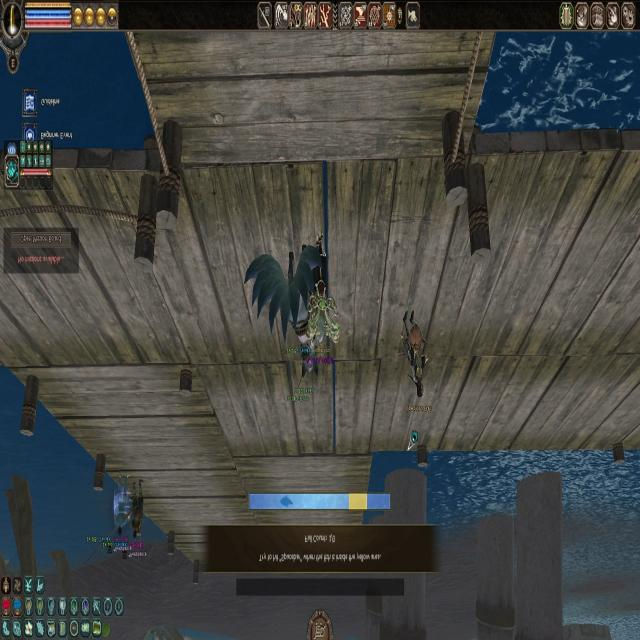fishes: (280, 496, 293, 509)
